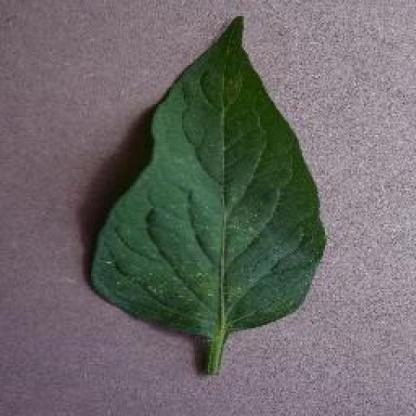Tomato_Spider_Mites: (90, 15, 323, 334)
